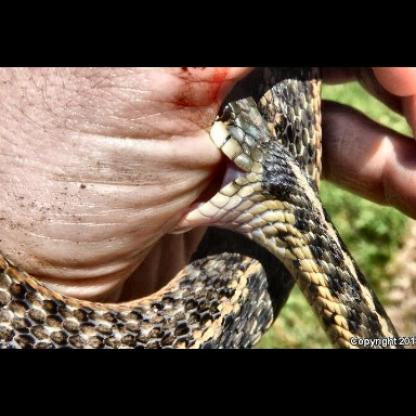Snake: (171, 83, 405, 349)
